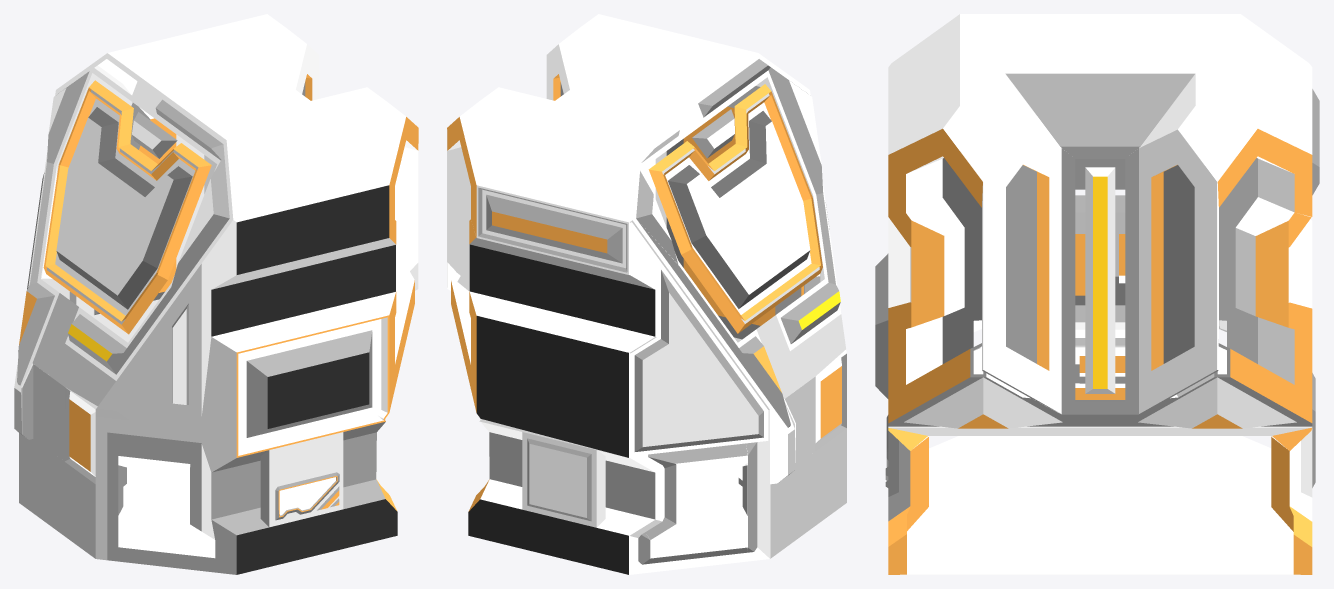
The model's file is 16m_build_01.glb.
3 renders of one model, left to right at view 1: azimuth 30°, elevation 25°; view 2: azimuth 150°, elevation 25°; view 3: azimuth 270°, elevation 25°, orthographic. The views are drawn at different scales.
Parts seen in each view (by area): view 1: building; view 2: building; view 3: building.
Part boxes in pixels (<box>): building: <box>14,14,418,574</box>; building: <box>447,14,846,574</box>; building: <box>875,14,1319,574</box>.
Size of what is drawn, in the model's own units: 16.58 by 20 by 16.77.
Materials: 1 (1 with a texture image).
